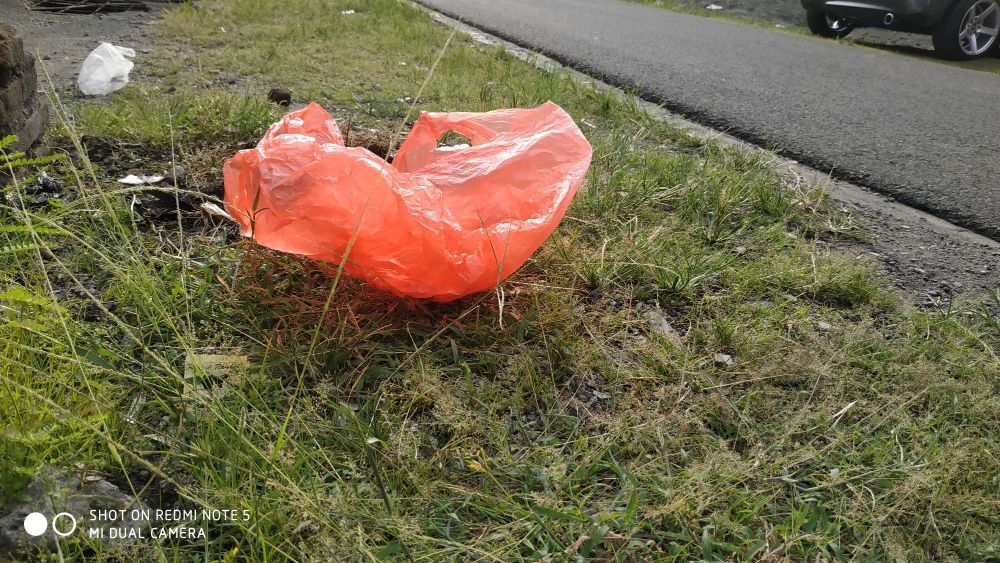plastik: (224, 78, 588, 311), (65, 30, 146, 105)
